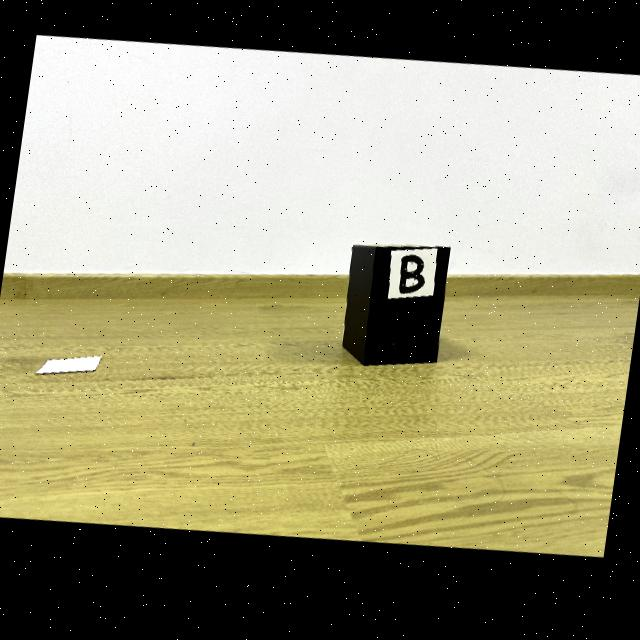B: (400, 262, 425, 300)
